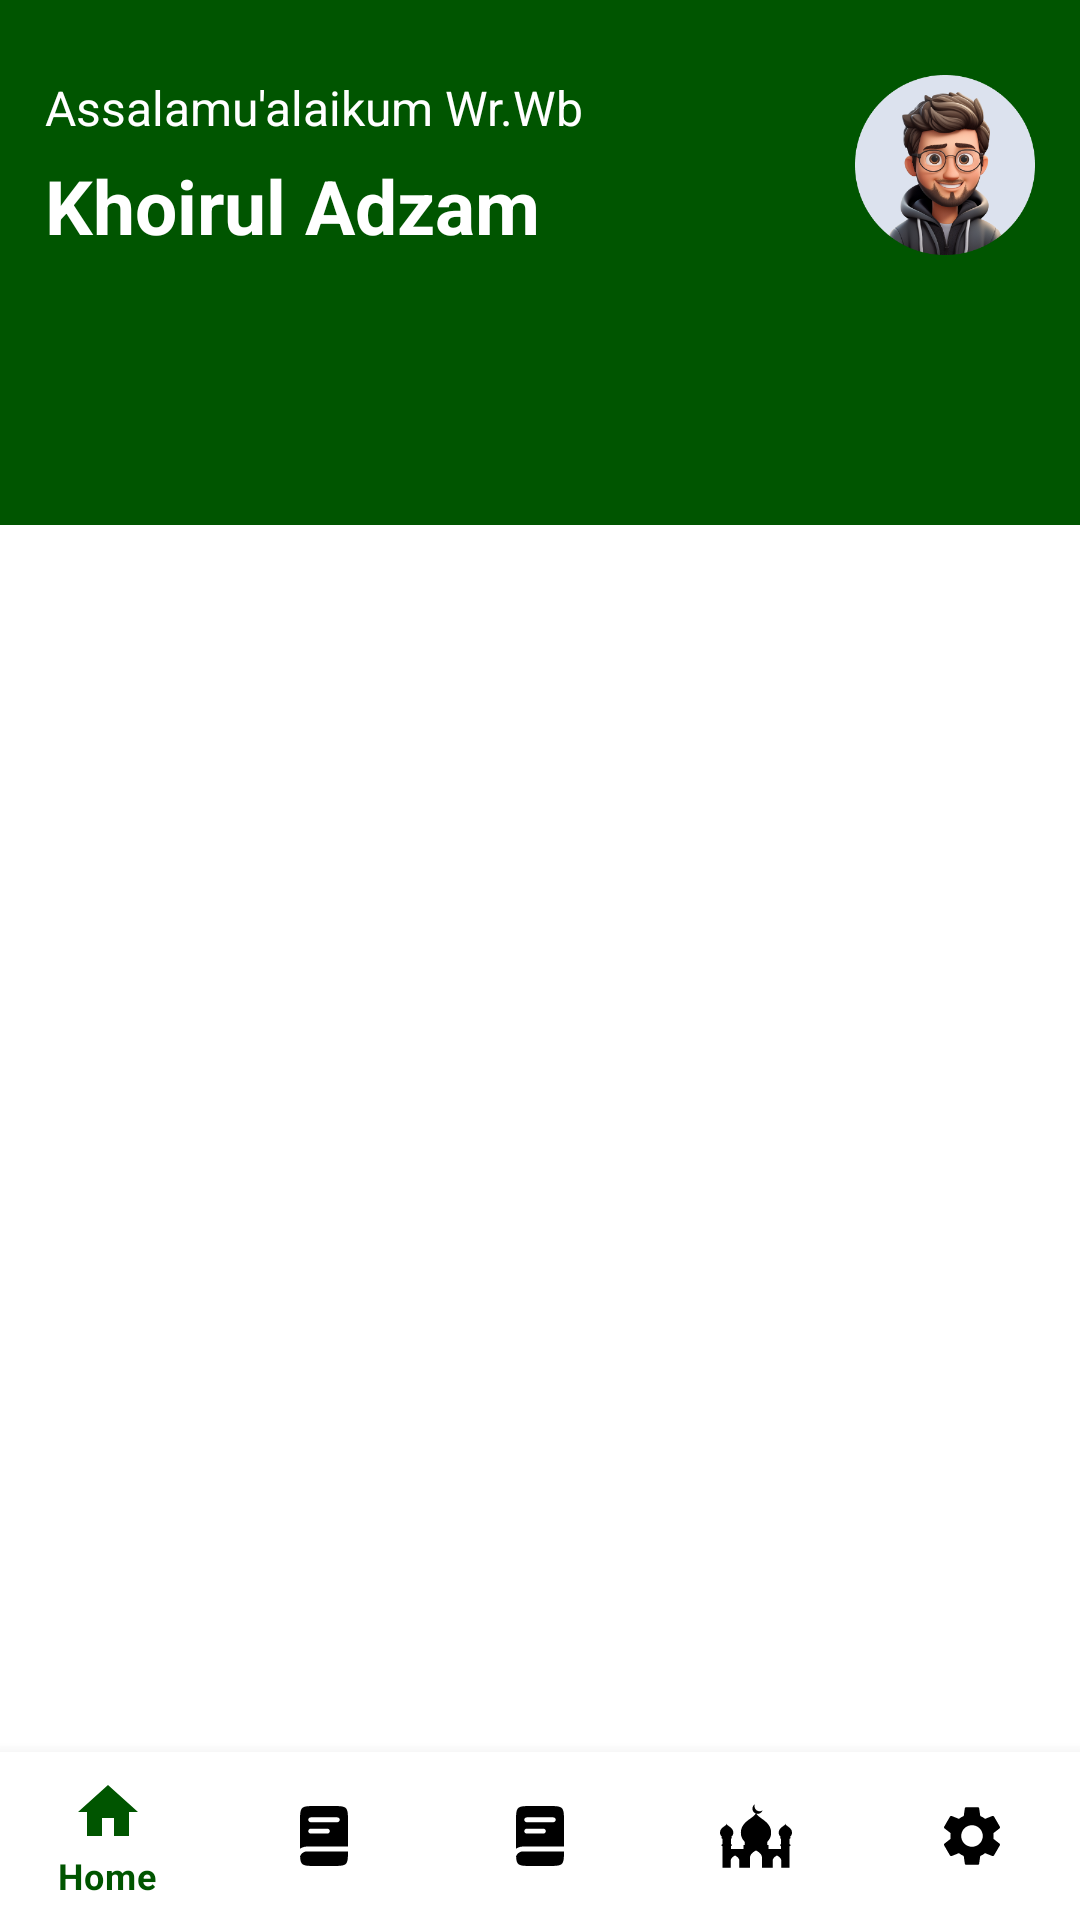

Named icons in this screenshot (1080px×1920px) and their centers, point (x, y):
userprofile: point (945, 165)
